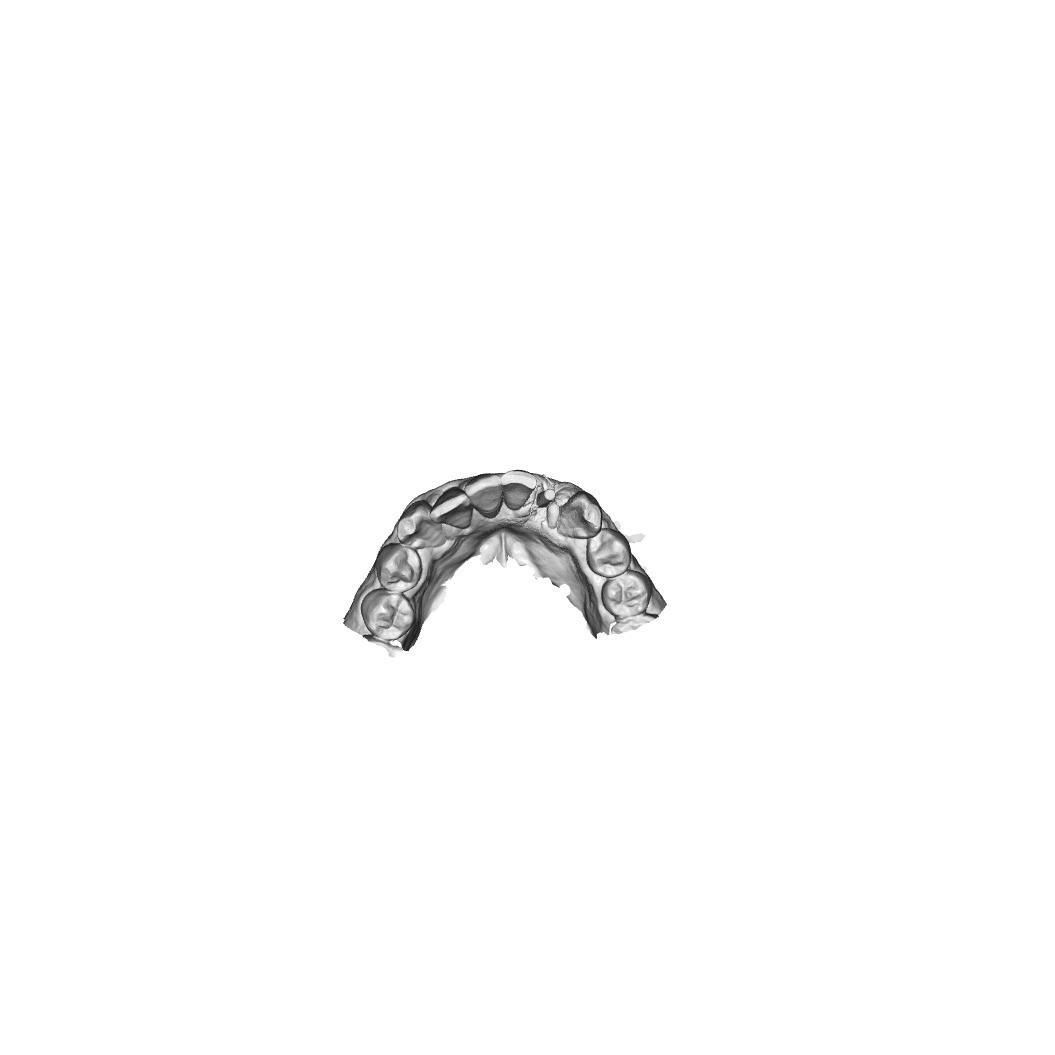abutment: (535, 485, 559, 509)
canine: (396, 499, 447, 550), (554, 489, 604, 540)
incisor: (461, 472, 505, 519), (428, 485, 473, 530), (500, 468, 538, 513)
premolar: (360, 587, 417, 641), (599, 568, 653, 619), (373, 542, 424, 594), (585, 527, 633, 578)
